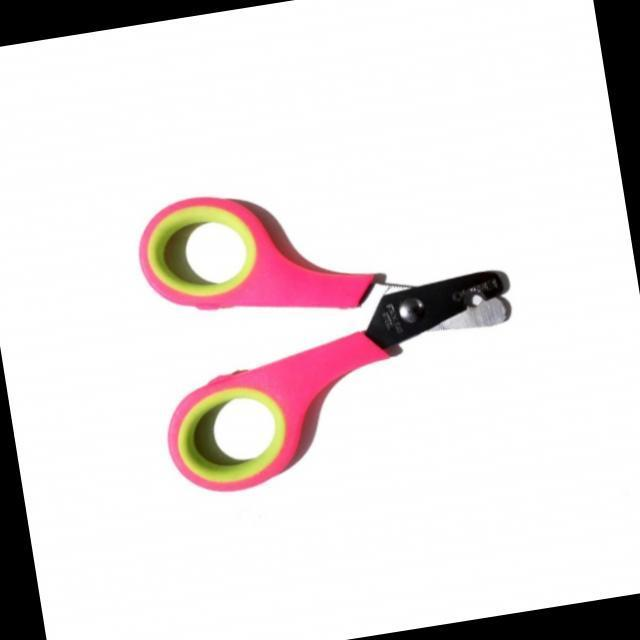scissors: (91, 130, 564, 526)
